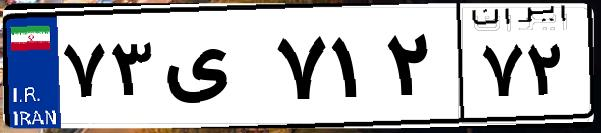1: (330, 28, 385, 110)
2: (385, 28, 445, 110), (525, 38, 570, 115)
3: (110, 28, 158, 98)
7: (270, 28, 330, 110), (57, 26, 110, 100), (475, 38, 525, 113)
ی: (158, 20, 270, 120)
